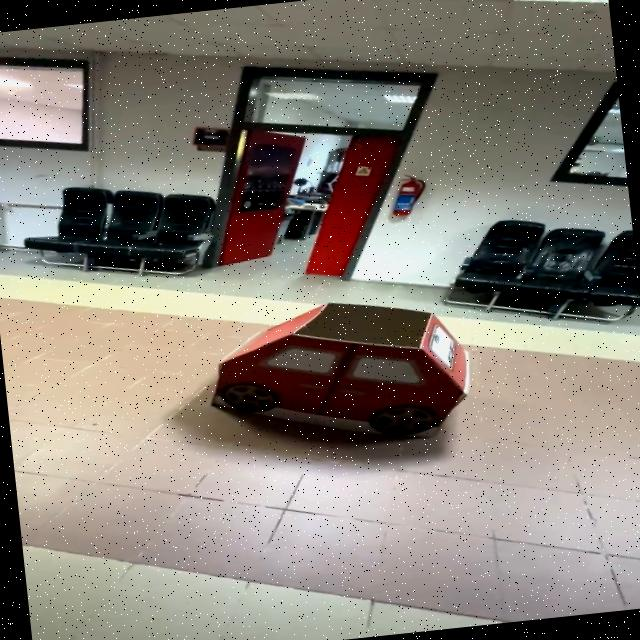red_car: (187, 269, 497, 468)
